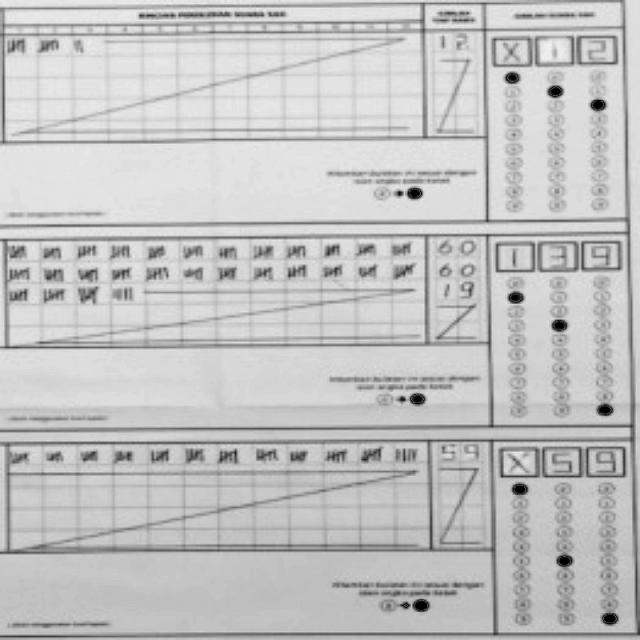Suara: (490, 234, 623, 274), (486, 30, 620, 66), (495, 446, 630, 479)
